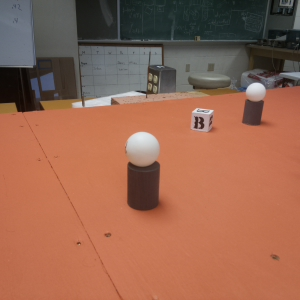obstacle: (120, 128, 169, 207), (238, 79, 269, 127)
